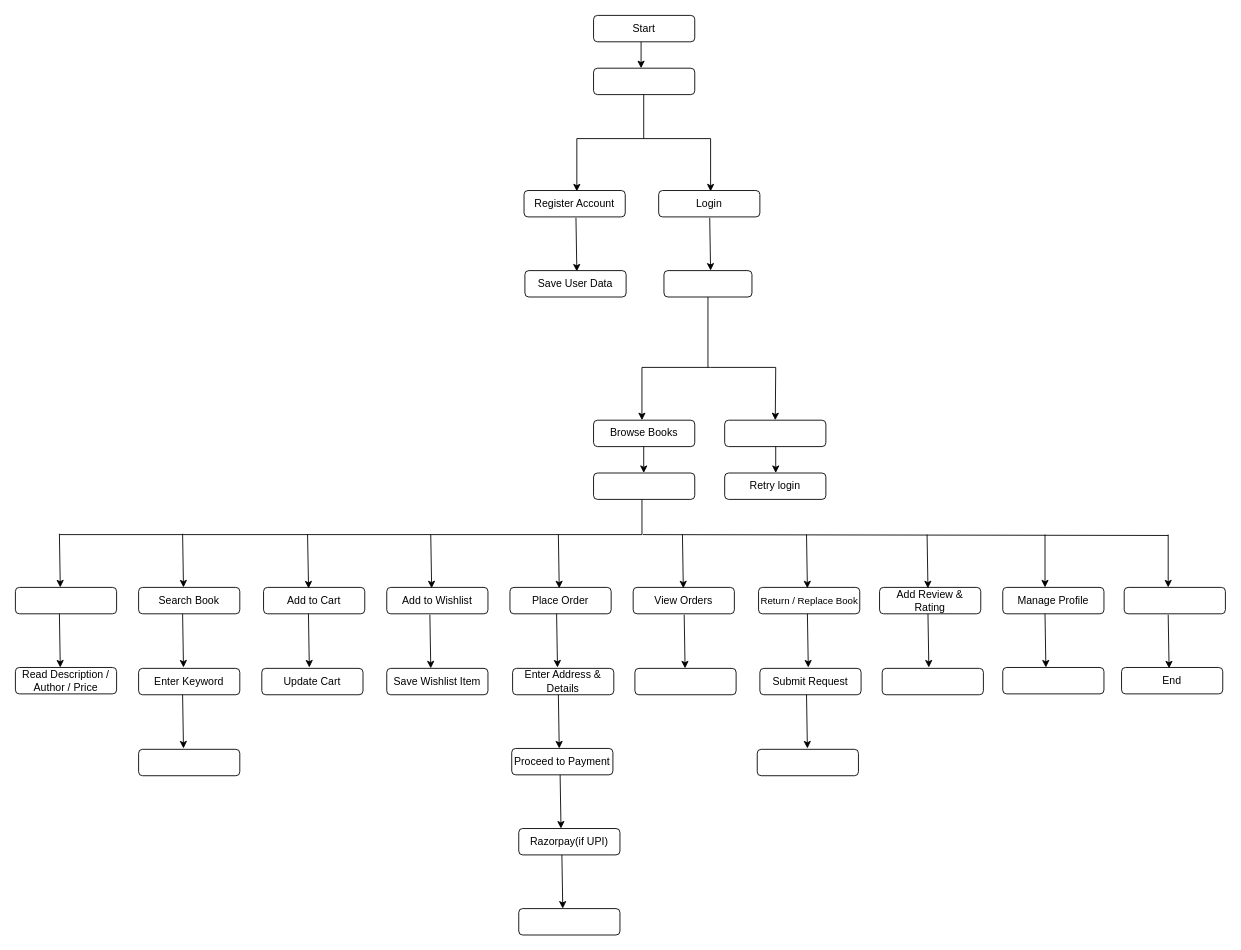
Some shapes in this 1241 by 950 pixel diagram are drawn without their labels. The box of each missing label's shape, as (x1, y1, x2, y2) in pixels:
Display Results: (138, 748, 240, 776)
Edit Profile Details: (1002, 667, 1104, 694)
Enter Credentials: (663, 270, 752, 297)
Error: (724, 419, 826, 447)
Logout: (1123, 587, 1225, 614)
Payment Success/Failure: (518, 908, 620, 935)
Select Action: (593, 472, 695, 499)
Submit Feedback: (881, 667, 983, 695)
Track Order Status: (634, 667, 736, 695)
User Opens Application: (593, 67, 695, 95)
View Book Details: (15, 587, 117, 614)
Wait for Admin Approval: (756, 748, 858, 776)
